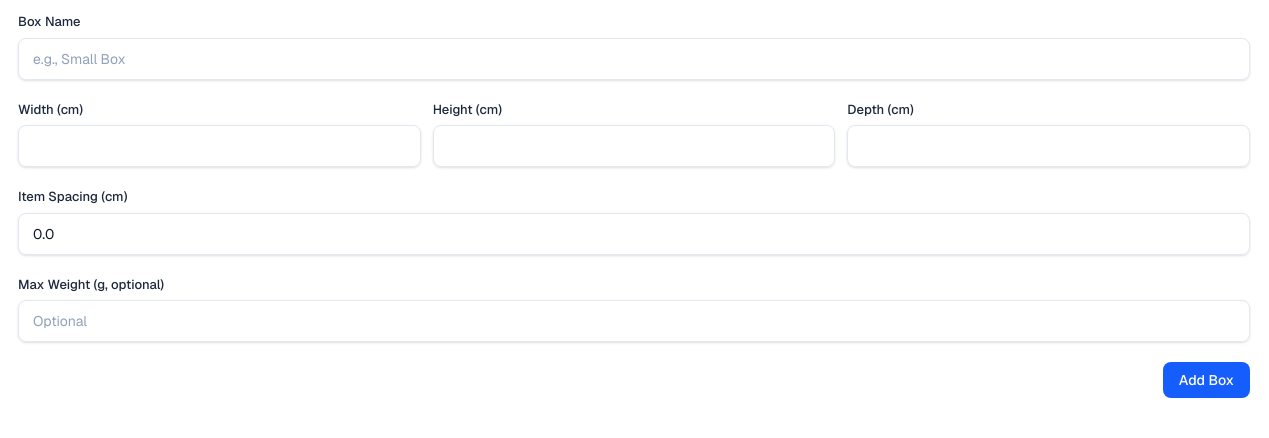
Scenario: BoxForm › shows server field errors under inputs
In the field labelled "Box Name": (634, 58) 18,38 -> 1250,80, type "Test"
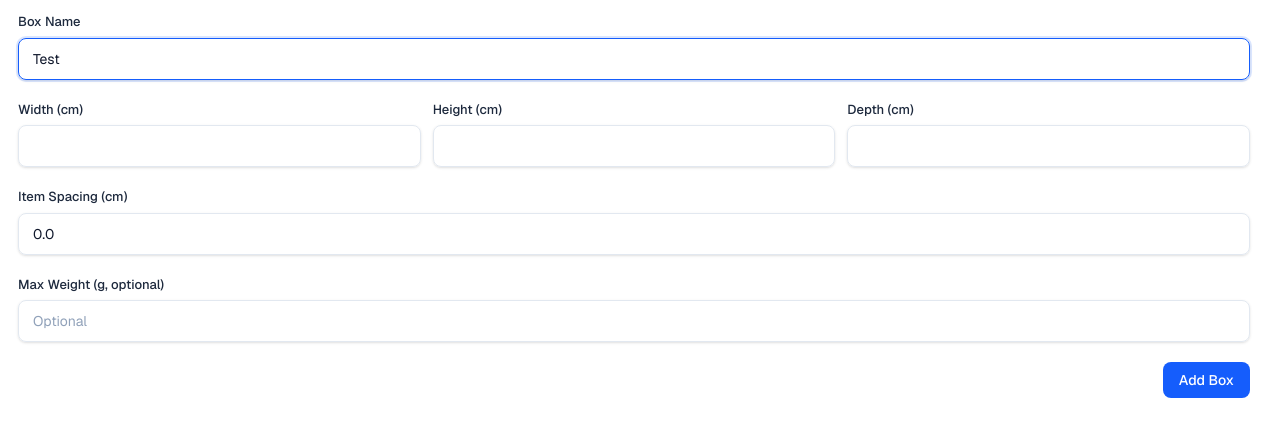
In the number field labelled "Width (cm)": (219, 146) 18,125 -> 421,167, type "30"
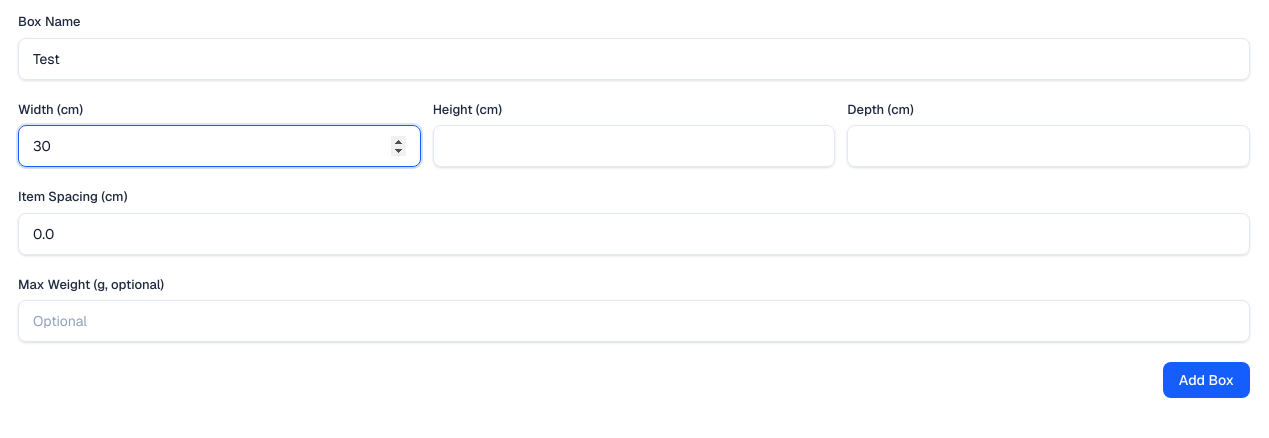
In the number field labelled "Height (cm)": (634, 146) 433,125 -> 835,167, type "20"
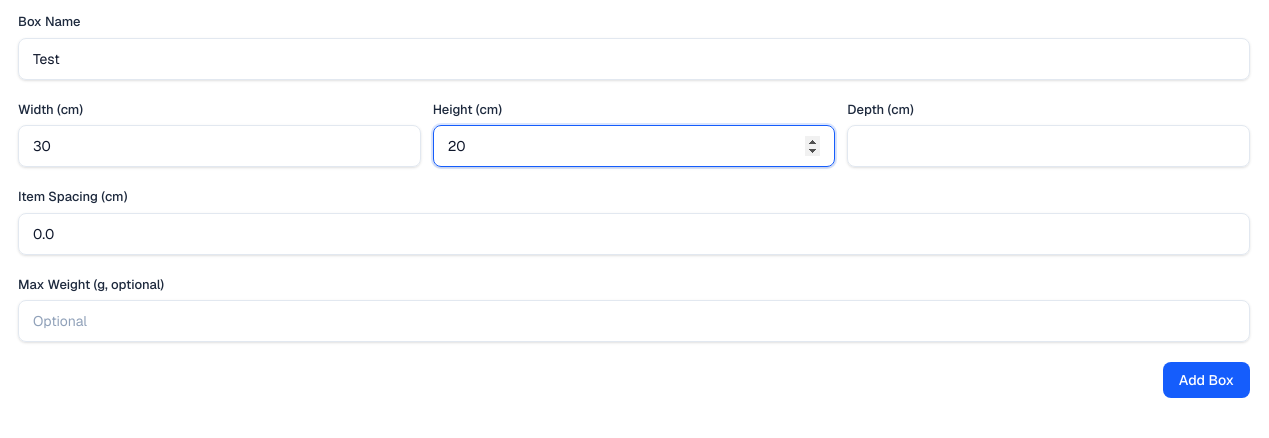
In the number field labelled "Depth (cm)": (1049, 146) 847,125 -> 1250,167, type "15"
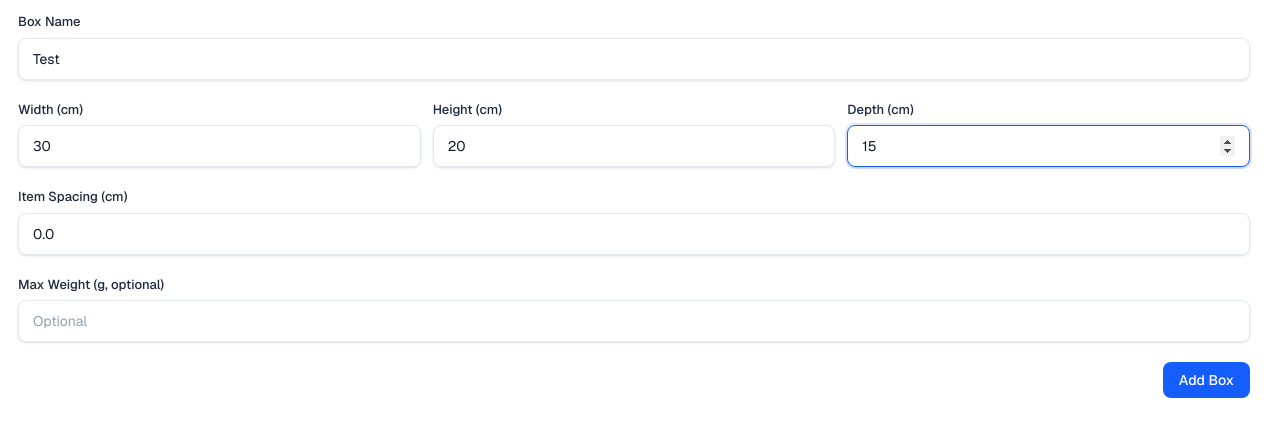
Click the button "Add Box": click(1206, 380) 1163,362 -> 1250,398
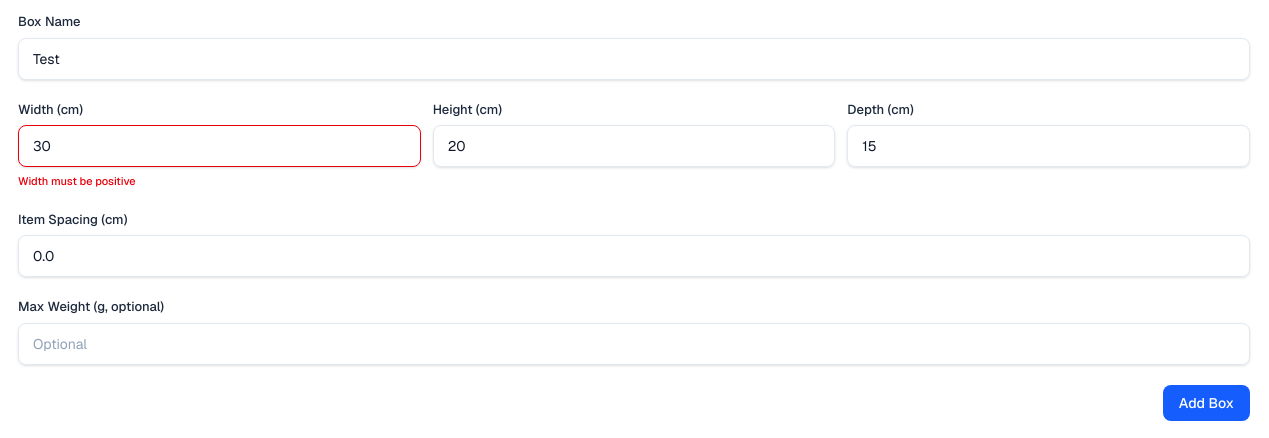
Check: the text "Width must be positive" is shown, box 18,174 -> 136,188
